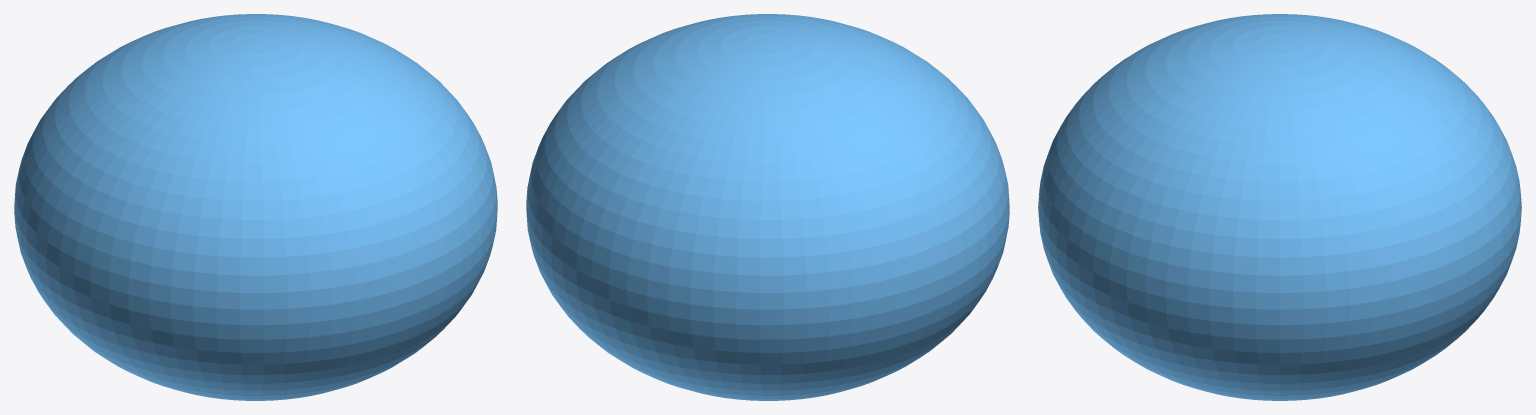
3 renders of one model, left to right at view 1: azimuth 30°, elevation 25°; view 2: azimuth 150°, elevation 25°; view 3: azimuth 270°, elevation 25°, orthographic.
Parts seen in each view (by area): view 1: 水色の空; view 2: 水色の空; view 3: 水色の空.
Part boxes in pixels (x1,y1,x2,y2): 水色の空: [14, 14, 497, 400]; 水色の空: [526, 14, 1009, 400]; 水色の空: [1038, 14, 1521, 400].
Size of the model in its own units: 12000 by 9000 by 12000.
